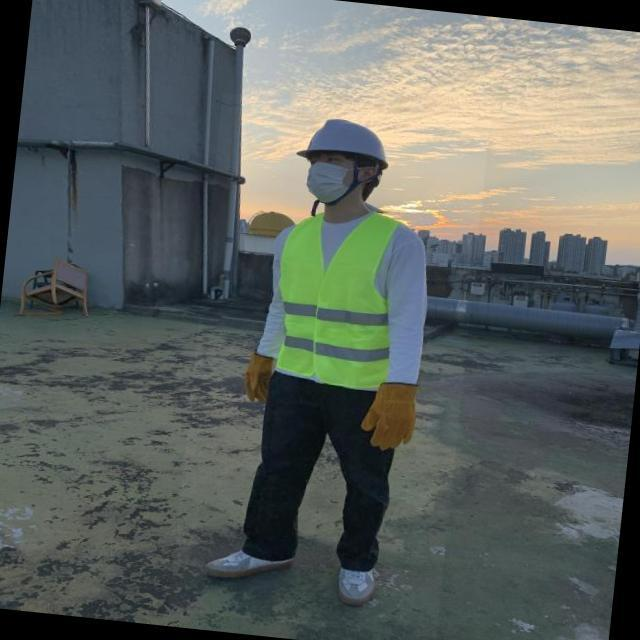Helmet: (297, 115, 393, 171)
Person: (184, 100, 435, 614)
Safety Boot: (203, 546, 297, 585), (334, 564, 377, 608)
Safety Vest: (275, 206, 408, 392)
